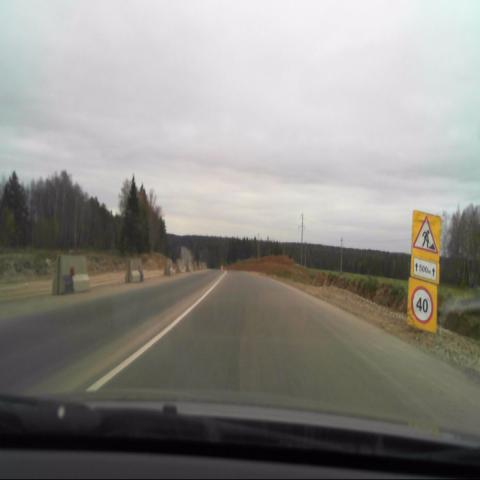1_25: (414, 215, 439, 255)
